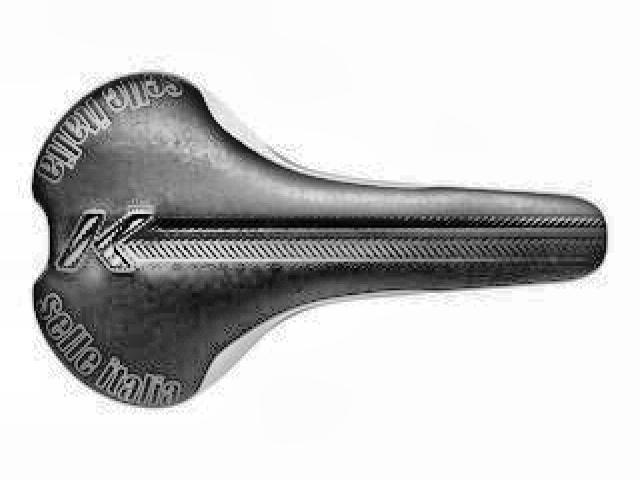saddle: (28, 66, 608, 418)
